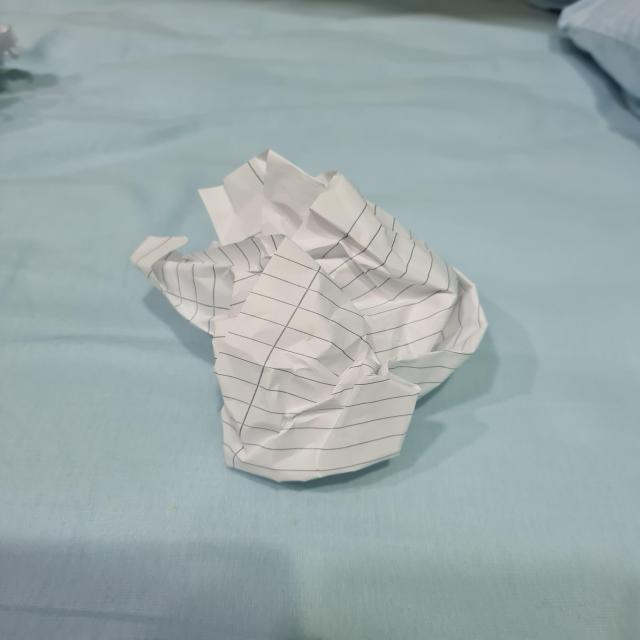Organik: (134, 150, 489, 478)
